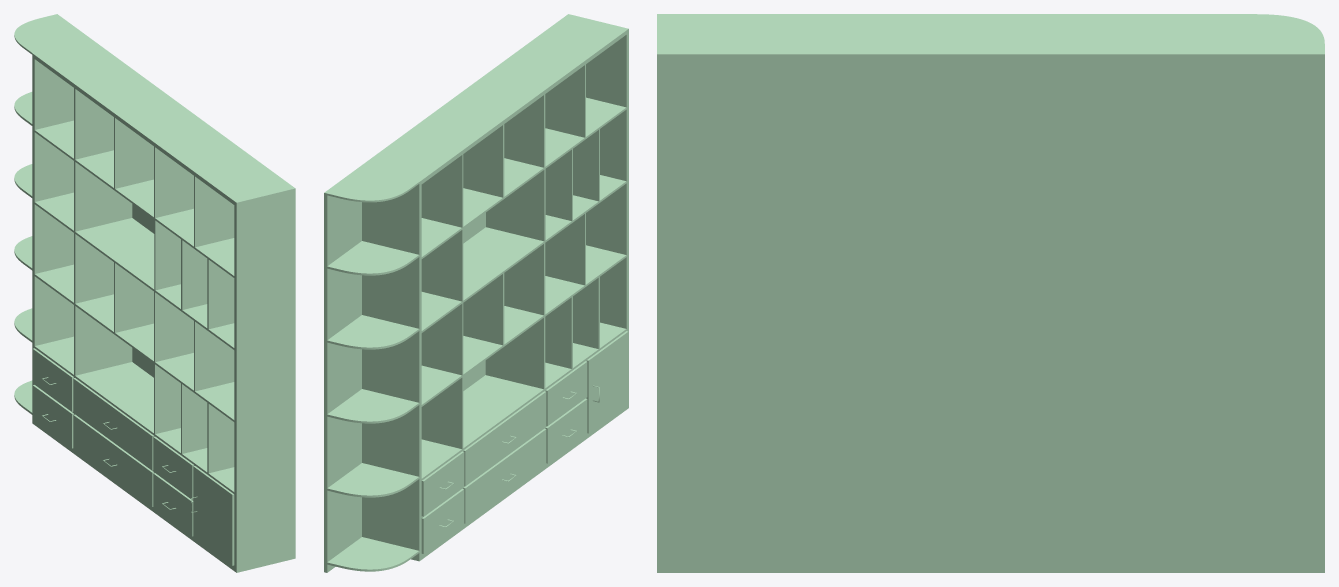
Rendered from bookshelf.glb.
3 renders of one model, left to right at view 1: azimuth 30°, elevation 25°; view 2: azimuth 150°, elevation 25°; view 3: azimuth 270°, elevation 25°, orthographic. The views are drawn at different scales.
Parts seen in each view (by area): view 1: Box001; view 2: Box001; view 3: Box001.
Part boxes in pixels (x1,y1,x2,y2): Box001: (14, 14, 295, 572); Box001: (324, 14, 628, 572); Box001: (657, 14, 1324, 572).
Size of the model in its own units: 0.0342 by 0.18 by 0.21.
